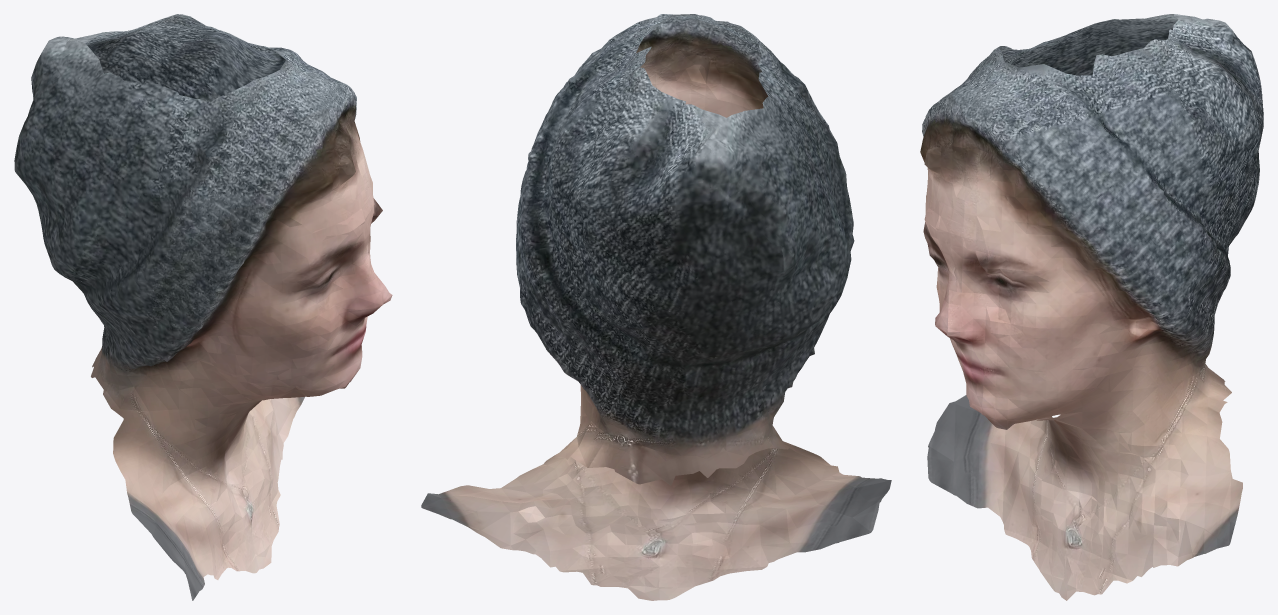
File: 真人头像_女_青年02_opt.glb
3 views of the same model, side by side, from view 1: azimuth 30°, elevation 25°; view 2: azimuth 150°, elevation 25°; view 3: azimuth 270°, elevation 25° (orthographic). The views are drawn at different scales.
Parts seen in each view (by area): view 1: B_Celeste_Photogrammetry_EYES_OPENED_DSC03165_B_Celeste_Phot; view 2: B_Celeste_Photogrammetry_EYES_OPENED_DSC03165_B_Celeste_Phot; view 3: B_Celeste_Photogrammetry_EYES_OPENED_DSC03165_B_Celeste_Phot.
Boxes of the visible parts, x1,y1,x2,y2 form: B_Celeste_Photogrammetry_EYES_OPENED_DSC03165_B_Celeste_Phot: (14,14,392,600); B_Celeste_Photogrammetry_EYES_OPENED_DSC03165_B_Celeste_Phot: (421,14,891,600); B_Celeste_Photogrammetry_EYES_OPENED_DSC03165_B_Celeste_Phot: (920,14,1263,600).
Size of the model in its own units: 0.1722 by 0.2748 by 0.1589.
1 material, 1 textured.
